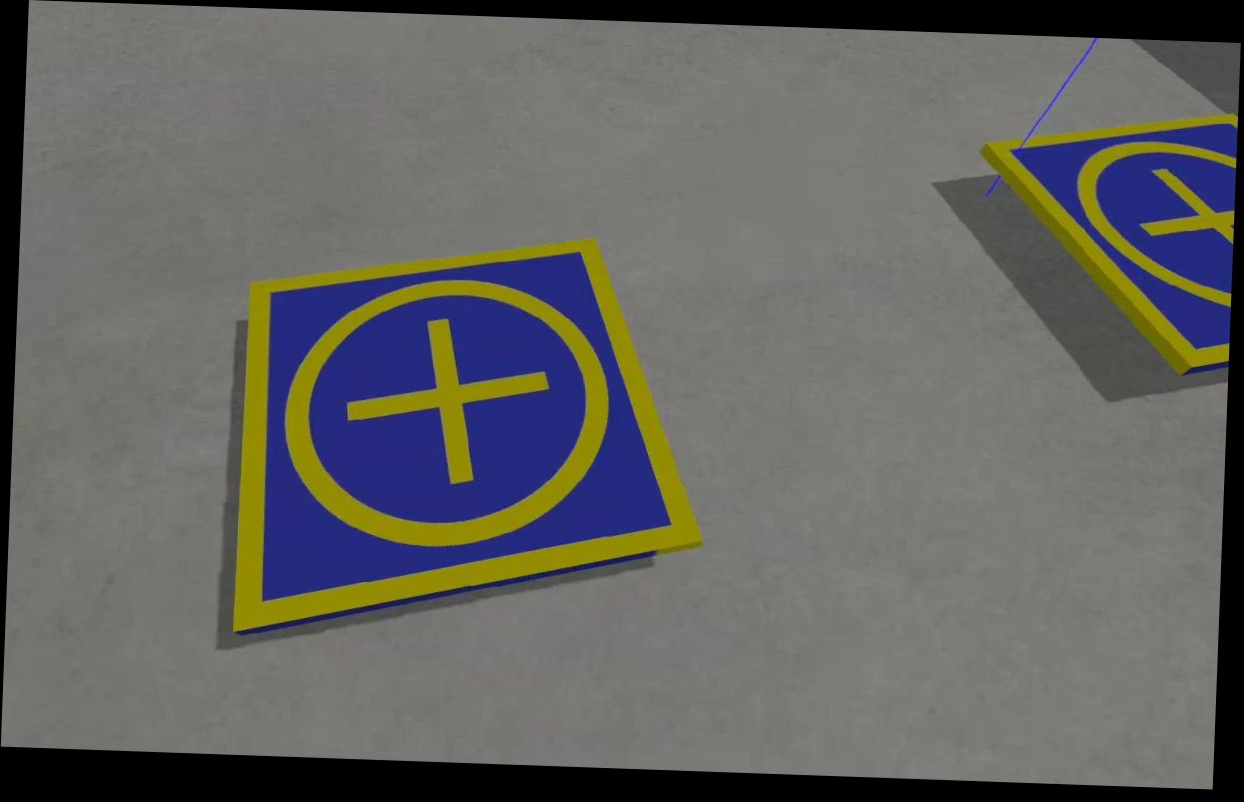small_base: (233, 223, 720, 659), (969, 102, 1240, 383)
